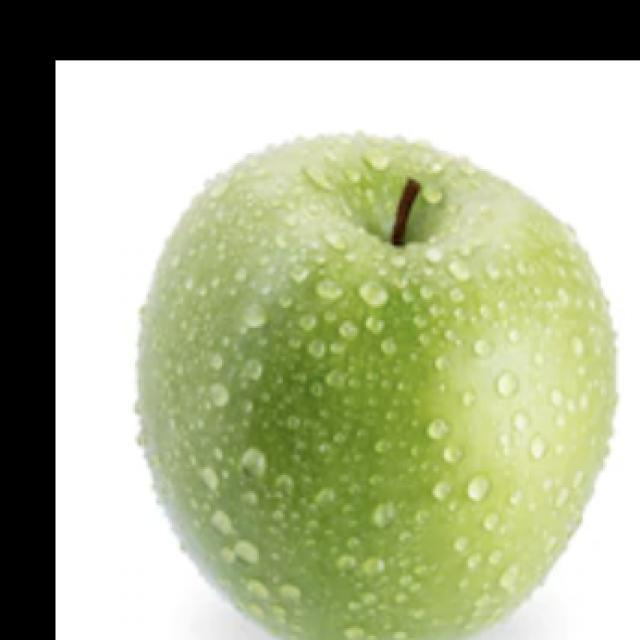Fresh Apple: (136, 118, 624, 640)
